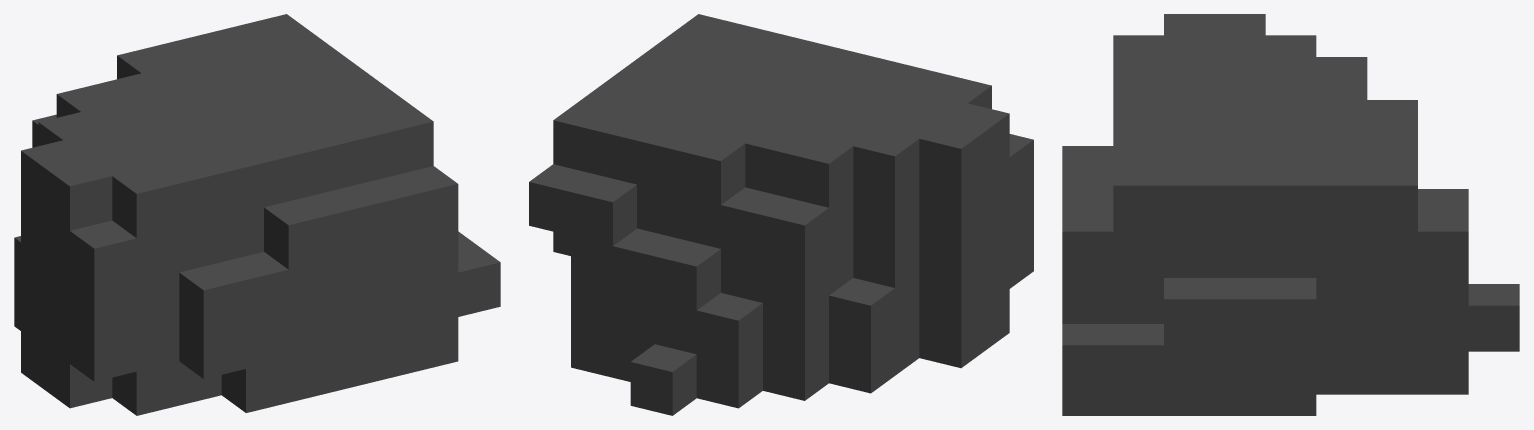
The model's file is Rocks-4.obj.
3 renders of one model, left to right at view 1: azimuth 30°, elevation 25°; view 2: azimuth 150°, elevation 25°; view 3: azimuth 270°, elevation 25°, orthographic. The views are drawn at different scales.
Bounding box in the file's own units: 0.9 × 0.5 × 0.9.
Materials: 1 (1 with a texture image).
